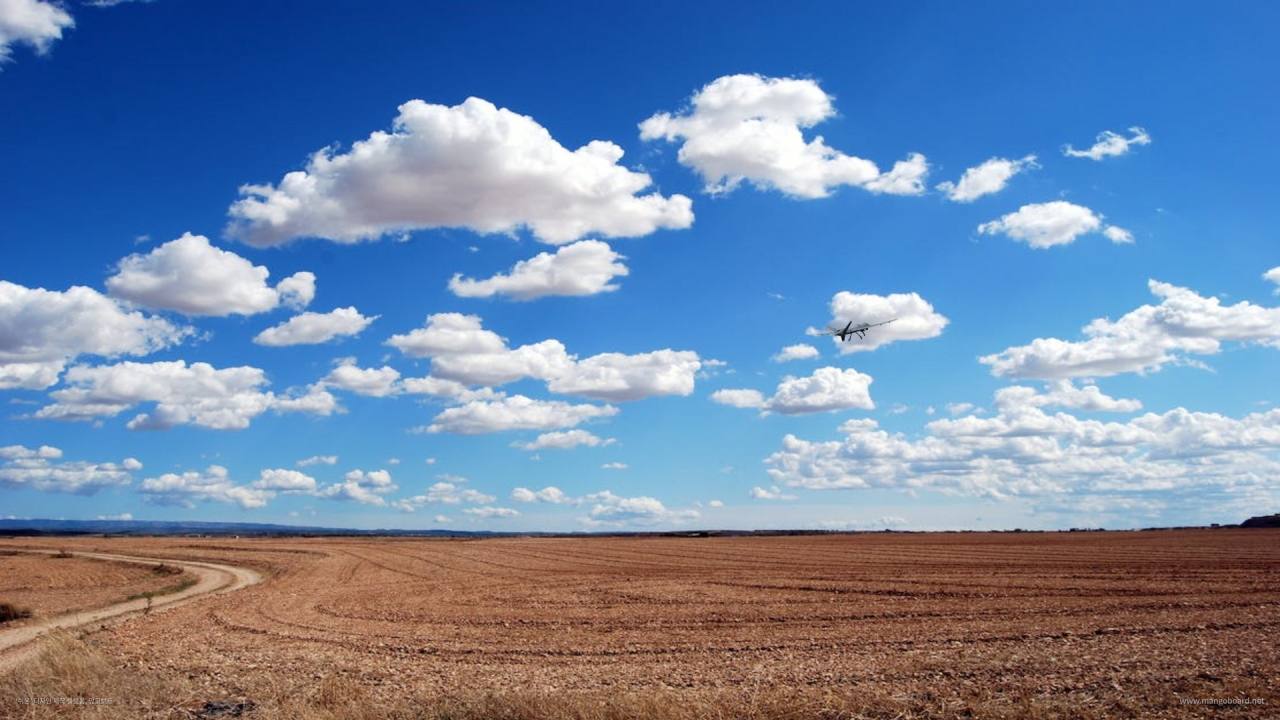military drone: (809, 318, 897, 342)
